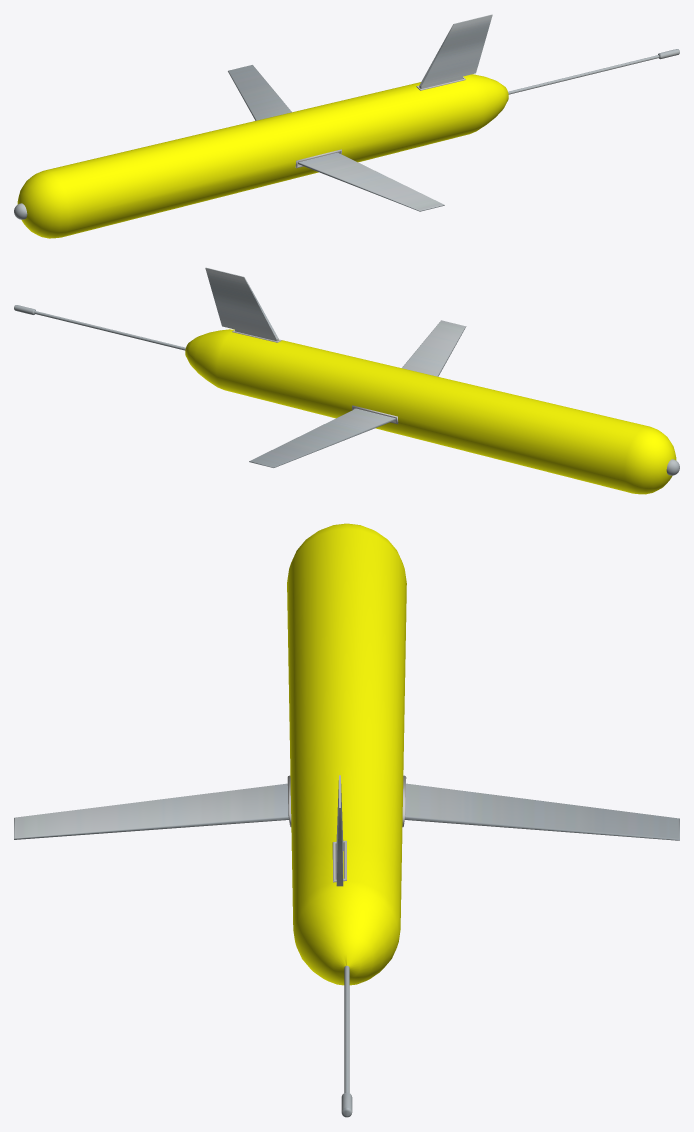
Rendered from huaxiangji.glb.
3 renders of one model, top to bottom at view 1: azimuth 30°, elevation 25°; view 2: azimuth 150°, elevation 25°; view 3: azimuth 270°, elevation 25°, orthographic. The views are drawn at different scales.
Visible parts, largest first — view 1: 滑翔机; view 2: 滑翔机; view 3: 滑翔机.
Boxes of the visible parts, <box> form: 滑翔机: <box>14,14,679,238</box>; 滑翔机: <box>14,267,679,494</box>; 滑翔机: <box>14,523,679,1117</box>.
Bounding box in the file's own units: 9.97 × 1.66 × 5.
Materials: 3 (2 with a texture image).
